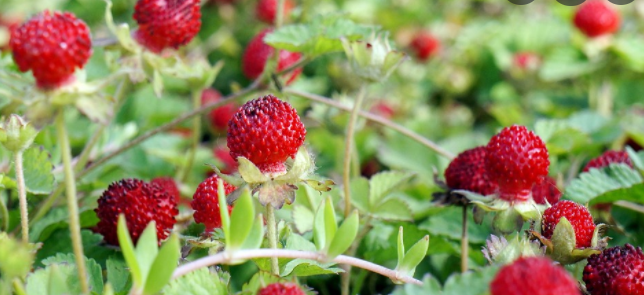ripe: (227, 93, 308, 174), (11, 9, 92, 90), (96, 176, 177, 250), (485, 124, 552, 199), (490, 253, 586, 293), (442, 141, 514, 193), (192, 172, 253, 233), (128, 2, 202, 52), (242, 25, 303, 83), (539, 203, 599, 247), (586, 247, 641, 290), (198, 80, 240, 135), (581, 147, 639, 186), (572, 4, 619, 37), (250, 2, 302, 23), (533, 172, 565, 205), (254, 280, 308, 293), (409, 33, 437, 57)
